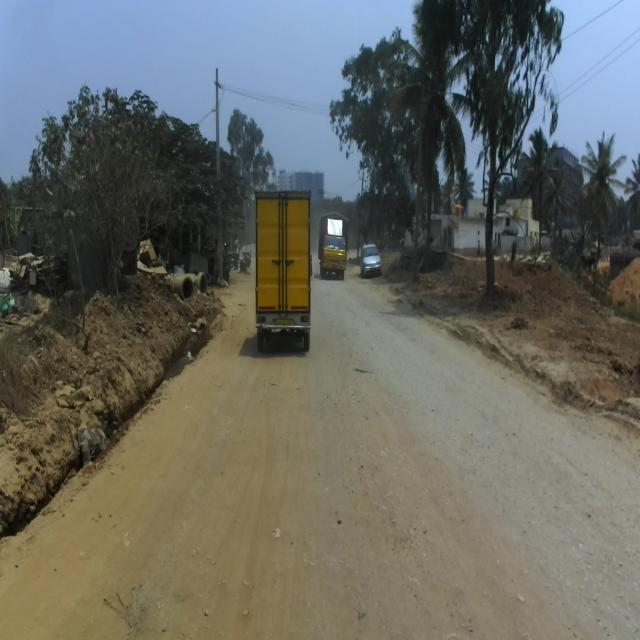truck ahead at: (253, 190, 315, 360), (318, 212, 350, 276)
